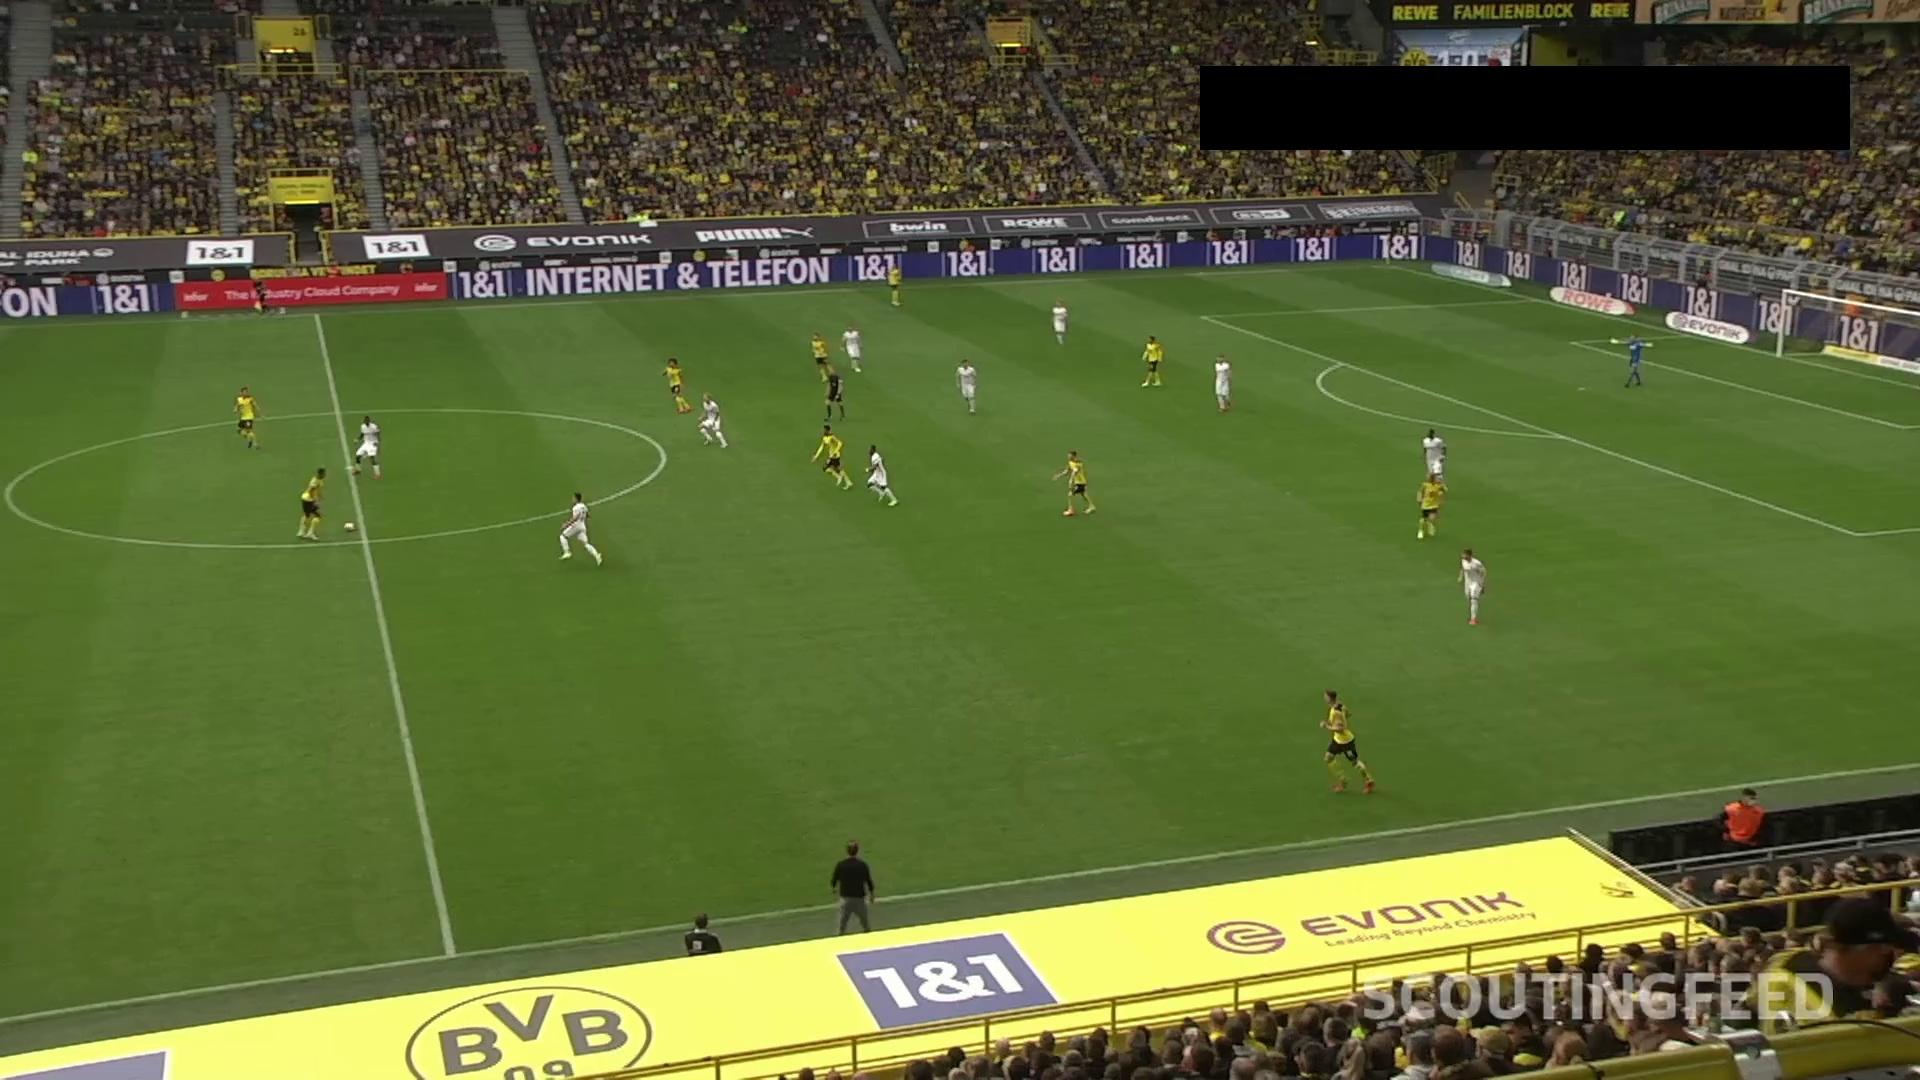Location-of-ball: (340, 513, 364, 543)
